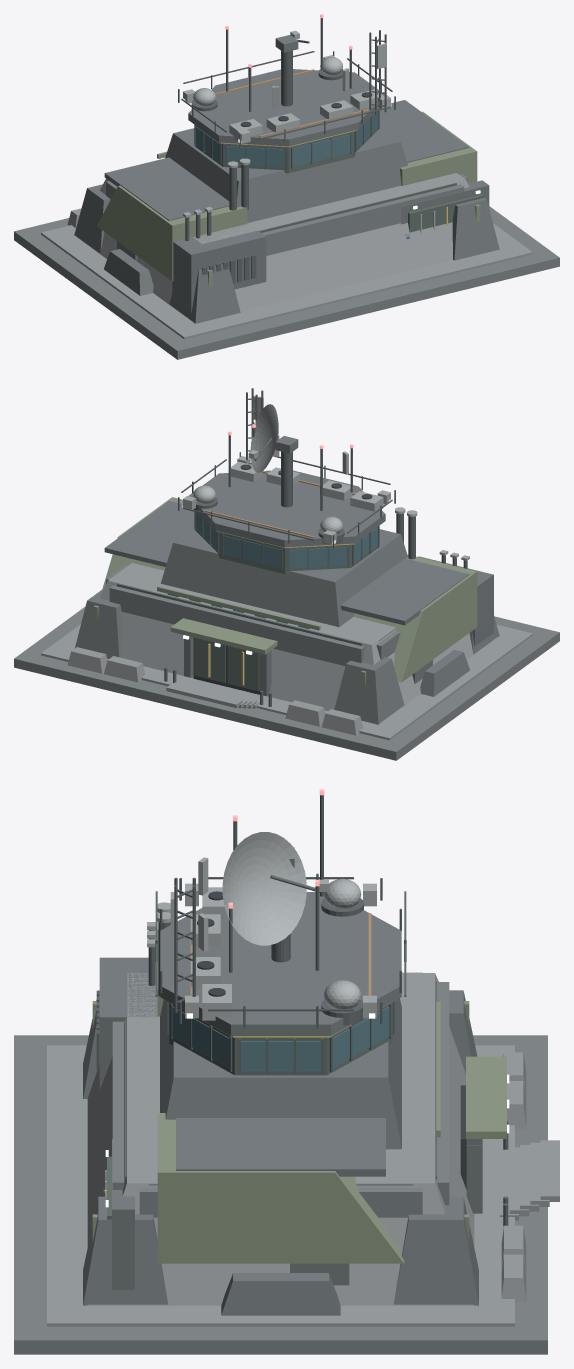
File: aegis_tactical_command_post_v21.glb
3 renders of one model, top to bottom at view 1: azimuth 30°, elevation 25°; view 2: azimuth 150°, elevation 25°; view 3: azimuth 270°, elevation 25°, orthographic. The views are drawn at different scales.
Visible parts, largest first — view 1: Static_WF_NEUTRAL_ARMOR, Static_WF_NEUTRAL_CONCRETE, Static_WF_NEUTRAL_CONCRETE_DARK, Static_WF_TEAM_PRIMARY, Static_WF_NEUTRAL_STEEL, Static_WF_NEUTRAL_ARMOR_LIGHT, Static_WF_GLASS_COMMAND, Static_WF_TEAM_SECONDARY, ServiceBayDoorRoot_WF_TEAM_SECONDARY, RadarYawRoot_WF_NEUTRAL_STEEL, Static_WF_NEUTRAL_COPPER; view 2: Static_WF_NEUTRAL_ARMOR, Static_WF_NEUTRAL_CONCRETE, Static_WF_NEUTRAL_CONCRETE_DARK, Static_WF_TEAM_PRIMARY, Static_WF_TEAM_SECONDARY, Static_WF_NEUTRAL_STEEL, Static_WF_NEUTRAL_ARMOR_LIGHT, Static_WF_GLASS_COMMAND, RadarDishPitchRoot_WF_NEUTRAL_ARMOR_LIGHT, RadarYawRoot_WF_NEUTRAL_STEEL, Static_WF_NEUTRAL_BLACK; view 3: Static_WF_NEUTRAL_ARMOR, Static_WF_NEUTRAL_CONCRETE, Static_WF_NEUTRAL_CONCRETE_DARK, Static_WF_TEAM_PRIMARY, Static_WF_NEUTRAL_STEEL, RadarDishPitchRoot_WF_NEUTRAL_ARMOR_LIGHT, Static_WF_NEUTRAL_ARMOR_LIGHT, Static_WF_GLASS_COMMAND, Static_WF_TEAM_SECONDARY, Static_WF_NEUTRAL_BLACK.
Part boxes in pixels (bbox=[...]): Static_WF_NEUTRAL_ARMOR: bbox=[74, 69, 499, 323]; Static_WF_NEUTRAL_CONCRETE: bbox=[41, 173, 532, 339]; Static_WF_NEUTRAL_CONCRETE_DARK: bbox=[14, 174, 559, 359]; Static_WF_TEAM_PRIMARY: bbox=[97, 111, 480, 286]; Static_WF_NEUTRAL_STEEL: bbox=[178, 18, 395, 283]; Static_WF_NEUTRAL_ARMOR_LIGHT: bbox=[183, 43, 410, 236]; Static_WF_GLASS_COMMAND: bbox=[196, 111, 409, 239]; Static_WF_TEAM_SECONDARY: bbox=[195, 126, 456, 232]; ServiceBayDoorRoot_WF_TEAM_SECONDARY: bbox=[408, 194, 483, 232]; RadarYawRoot_WF_NEUTRAL_STEEL: bbox=[281, 50, 292, 106]; Static_WF_NEUTRAL_COPPER: bbox=[215, 69, 368, 137]; Static_WF_NEUTRAL_ARMOR: bbox=[75, 470, 499, 724]; Static_WF_NEUTRAL_CONCRETE: bbox=[41, 563, 532, 740]; Static_WF_NEUTRAL_CONCRETE_DARK: bbox=[14, 565, 559, 760]; Static_WF_TEAM_PRIMARY: bbox=[93, 497, 477, 687]; Static_WF_TEAM_SECONDARY: bbox=[117, 527, 395, 691]; Static_WF_NEUTRAL_STEEL: bbox=[164, 388, 467, 706]; Static_WF_NEUTRAL_ARMOR_LIGHT: bbox=[183, 395, 469, 560]; Static_WF_GLASS_COMMAND: bbox=[167, 512, 377, 628]; RadarDishPitchRoot_WF_NEUTRAL_ARMOR_LIGHT: bbox=[248, 404, 278, 472]; RadarYawRoot_WF_NEUTRAL_STEEL: bbox=[281, 451, 292, 507]; Static_WF_NEUTRAL_BLACK: bbox=[193, 464, 372, 694]; Static_WF_NEUTRAL_ARMOR: bbox=[83, 892, 482, 1315]; Static_WF_NEUTRAL_CONCRETE: bbox=[47, 973, 559, 1326]; Static_WF_NEUTRAL_CONCRETE_DARK: bbox=[14, 972, 547, 1354]; Static_WF_TEAM_PRIMARY: bbox=[92, 930, 506, 1263]; Static_WF_NEUTRAL_STEEL: bbox=[96, 795, 508, 1226]; RadarDishPitchRoot_WF_NEUTRAL_ARMOR_LIGHT: bbox=[222, 832, 328, 945]; Static_WF_NEUTRAL_ARMOR_LIGHT: bbox=[147, 857, 376, 1020]; Static_WF_GLASS_COMMAND: bbox=[103, 1007, 389, 1194]; Static_WF_TEAM_SECONDARY: bbox=[125, 981, 436, 1185]; Static_WF_NEUTRAL_BLACK: bbox=[197, 891, 466, 1189].
Bounding box in the file's own units: 31.6 × 18.6 × 23.93.
